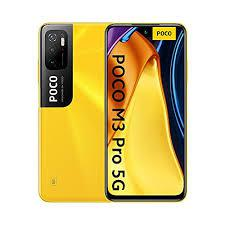Smartphone: (110, 22, 191, 200), (46, 19, 113, 205)
